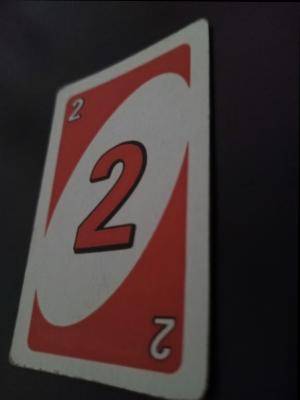num_2: (68, 137, 153, 259), (146, 311, 183, 369), (65, 93, 87, 125)
red: (9, 17, 205, 400)
